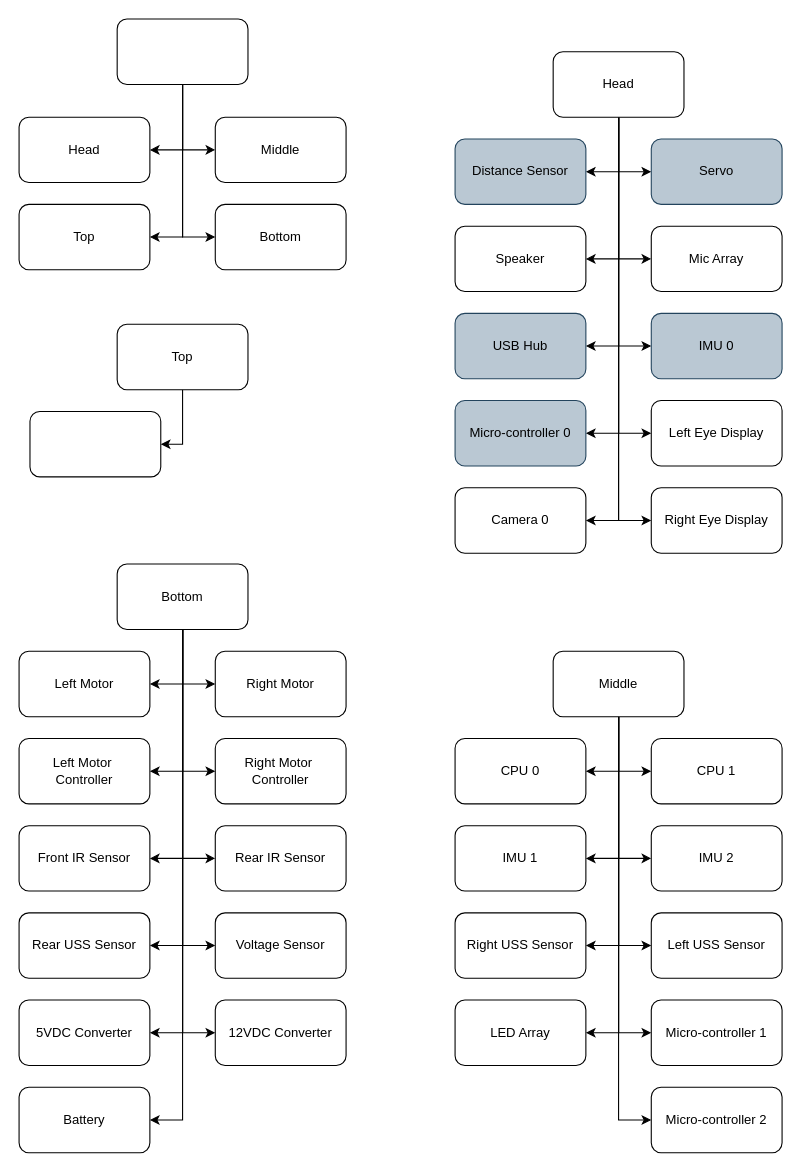
The diagram is 801 pixels wide and 1172 high, and some of its shapes have lost their labels. Here are the shapes that lost their labels. From the top down, the box of each, then its label:
(116, 18, 248, 84): R2
(29, 410, 161, 477): GPS Receiver
